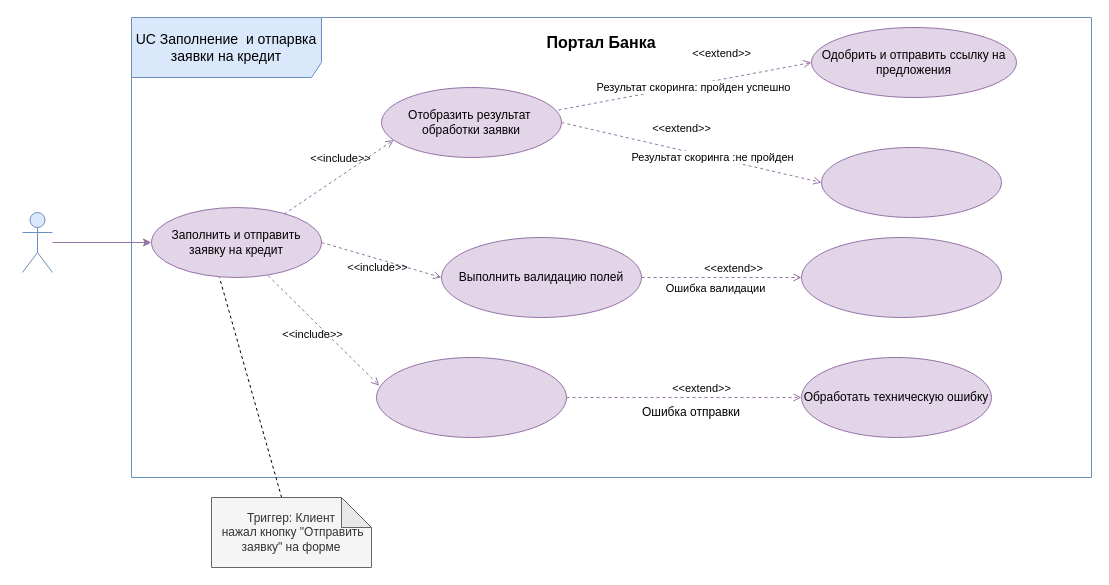
This 1109x585 diagram has some shape labels left out. The shapes that lost their labels are listed below. From the top down, each one's centre as x and y in pixels, then its label:
(x=911, y=182): Отказать по результатам скоринга по email
(x=37, y=242): Клиент
(x=901, y=277): Отобразить ошибку валидации
(x=471, y=397): Сформировать JSON и отправить в МС Заявка
